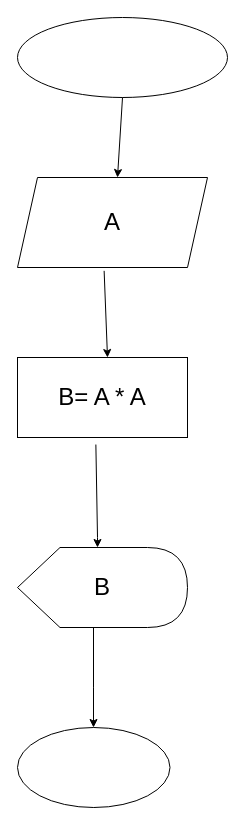
Some shapes in this 245 by 825 pixel diagram are drawn without their labels. Here are the shapes that lost their labels. From the top down, the centre of each, then its label:
the point at 122,57: INICIO
the point at 93,767: FIM
